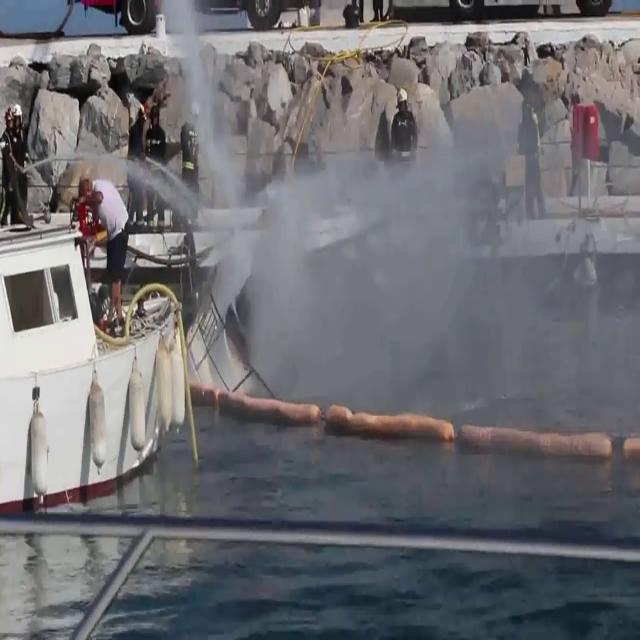Smoke: (168, 61, 636, 436)
